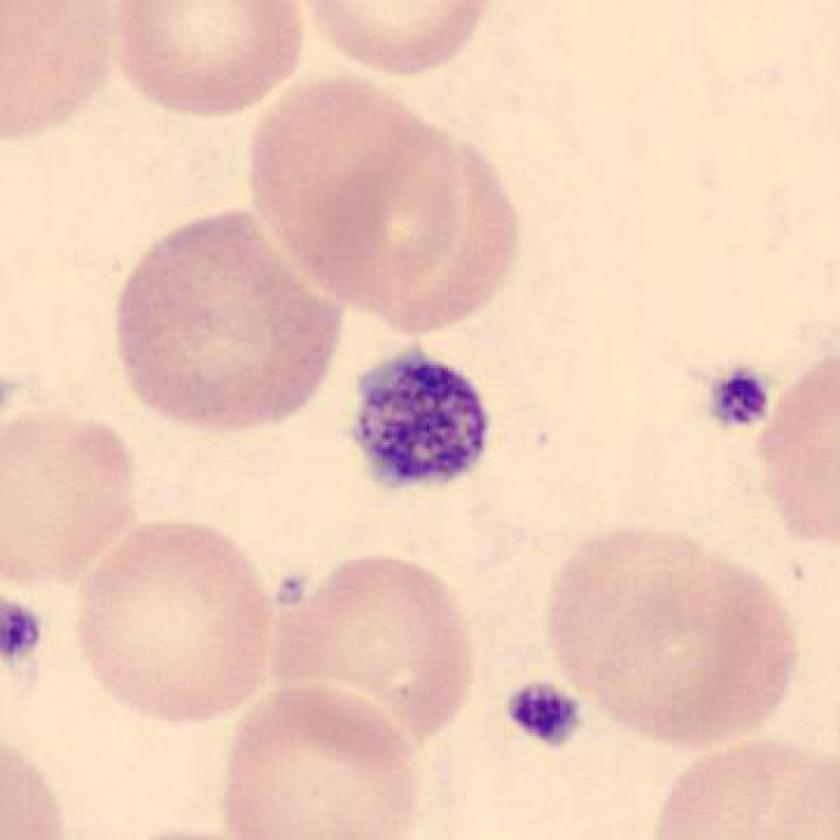platelets: (342, 344, 503, 510), (500, 670, 594, 765), (696, 355, 792, 445)
